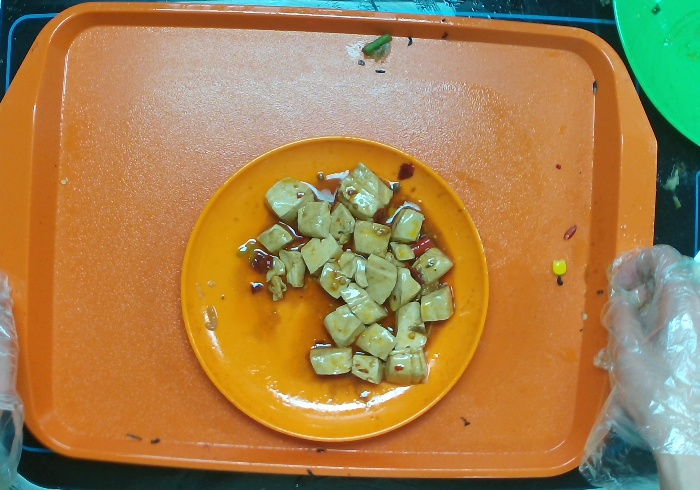HZYJPL-Ju_Huang_Yuan_Pan: (151, 116, 493, 454)
